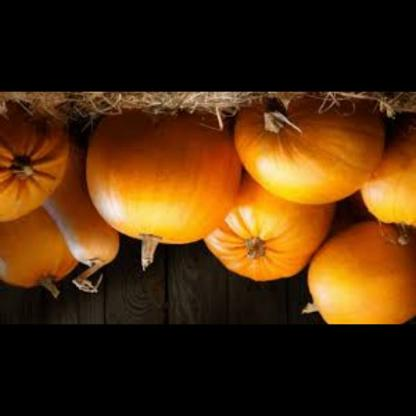pumpkin: (79, 105, 255, 254), (231, 92, 389, 209), (202, 181, 348, 283), (299, 221, 415, 325), (43, 136, 116, 275), (0, 109, 74, 230), (362, 107, 416, 241), (0, 211, 78, 291)
